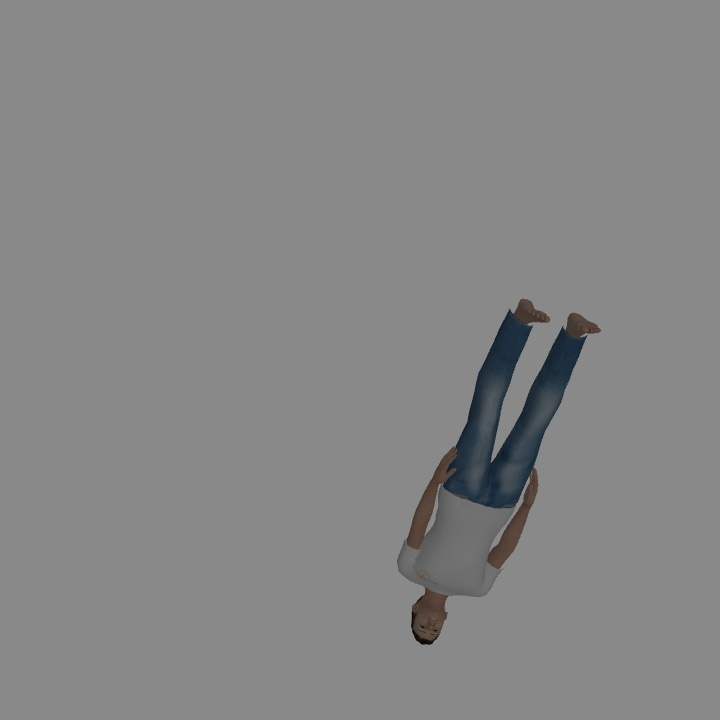victim: (402, 308, 583, 644)
